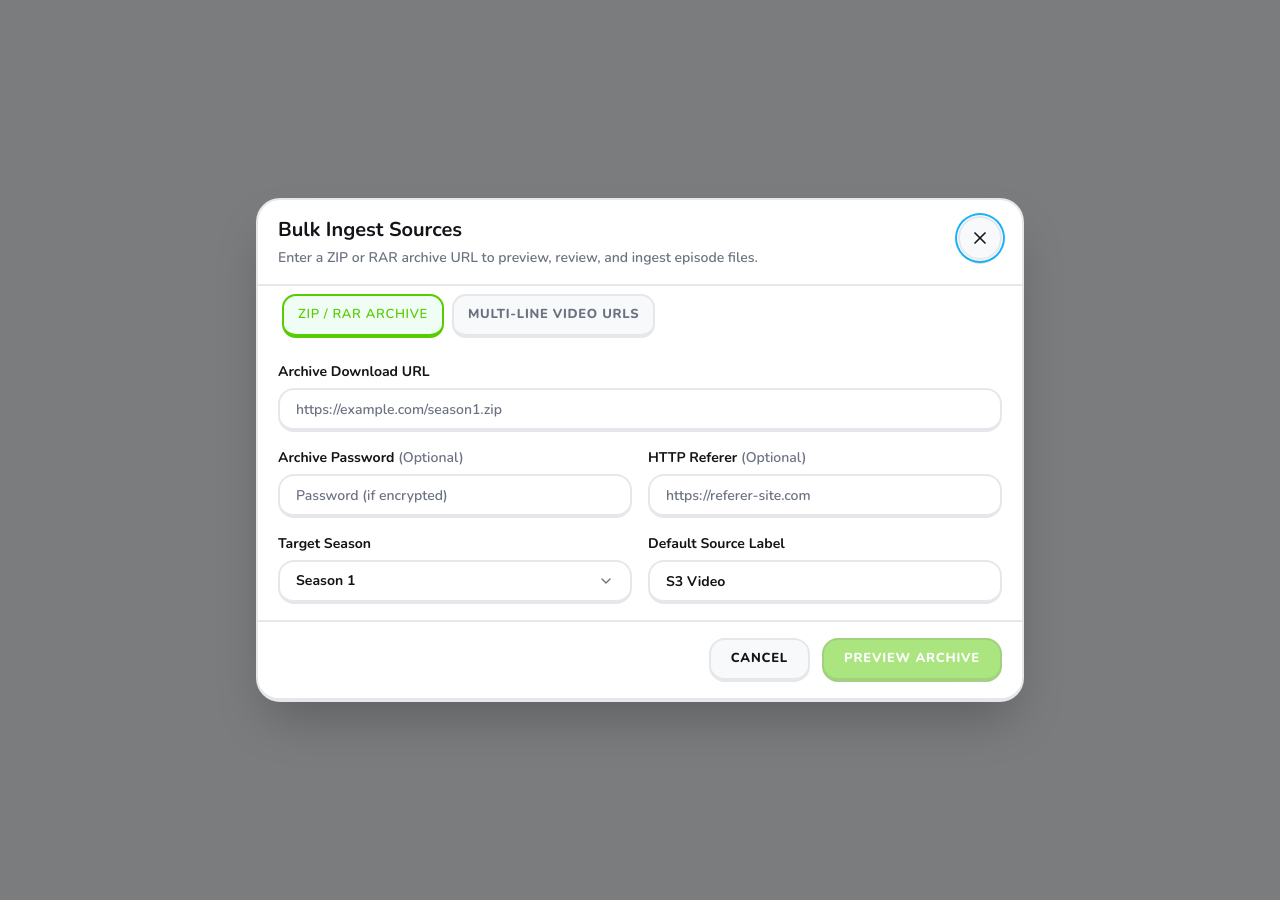
it: BulkIngestModal component › switches to URL tab and shows URL ingest Step 1 form
Click the tab with test id "tab-url" at (554, 316), box [452, 294, 655, 338]
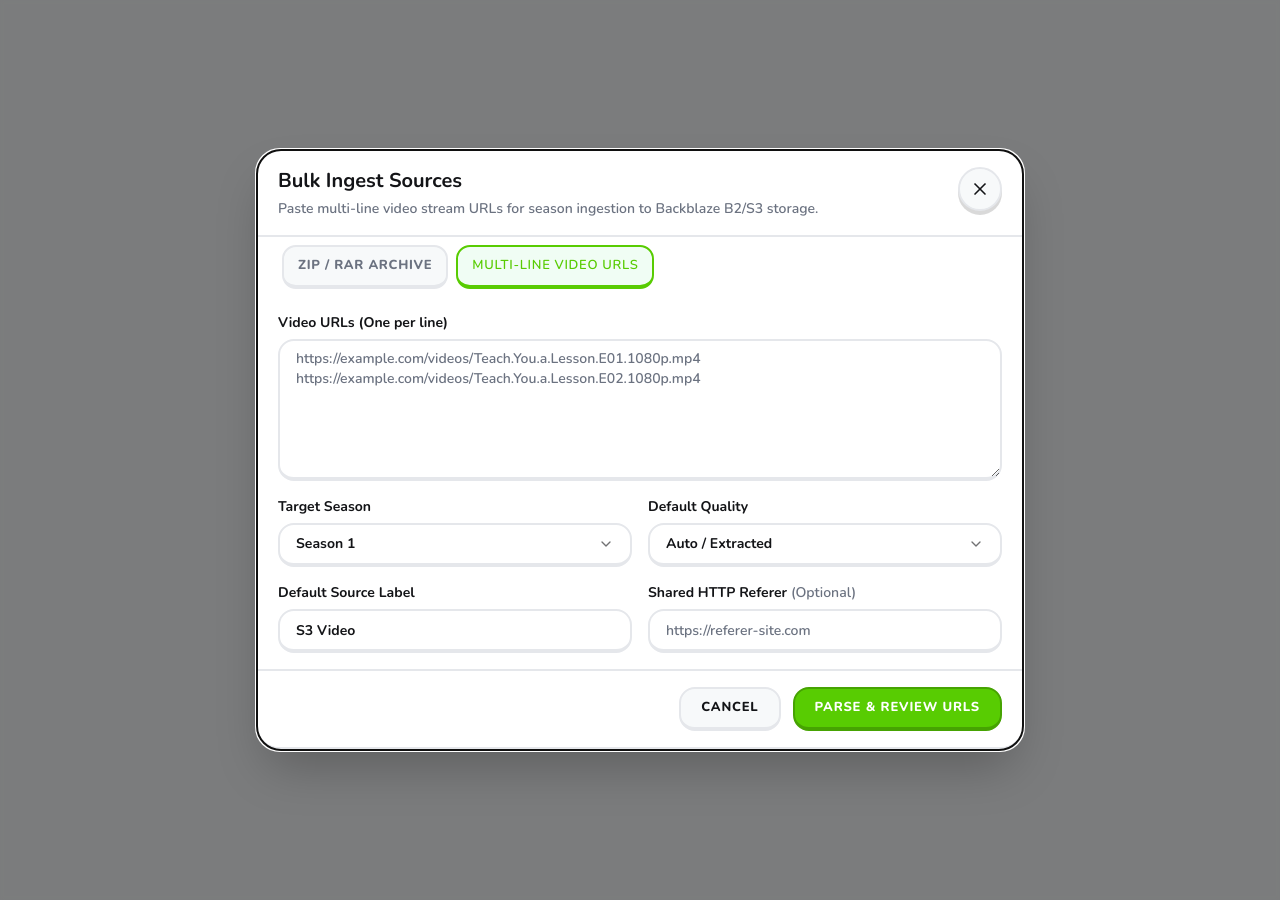
Expected: the text box with test id "bulk-ingest-urls-textarea" is shown, [278, 339, 1002, 481]
Expected: the dropdown named "Default Quality" is shown, [648, 523, 1002, 567]
Expected: the field labelled "Default Source Label" is shown, [278, 609, 632, 653]
